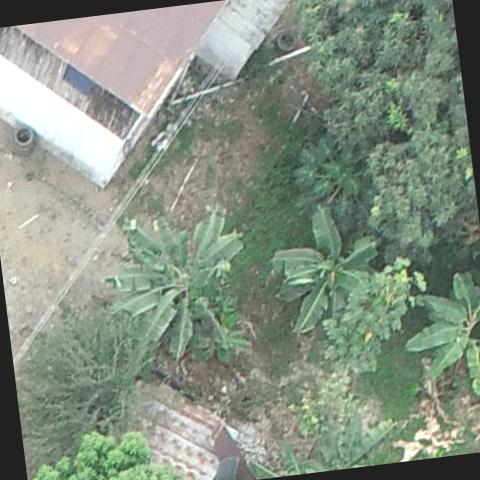Banana-plant: (88, 196, 254, 372), (272, 195, 392, 336), (393, 267, 480, 398), (190, 301, 259, 376)
